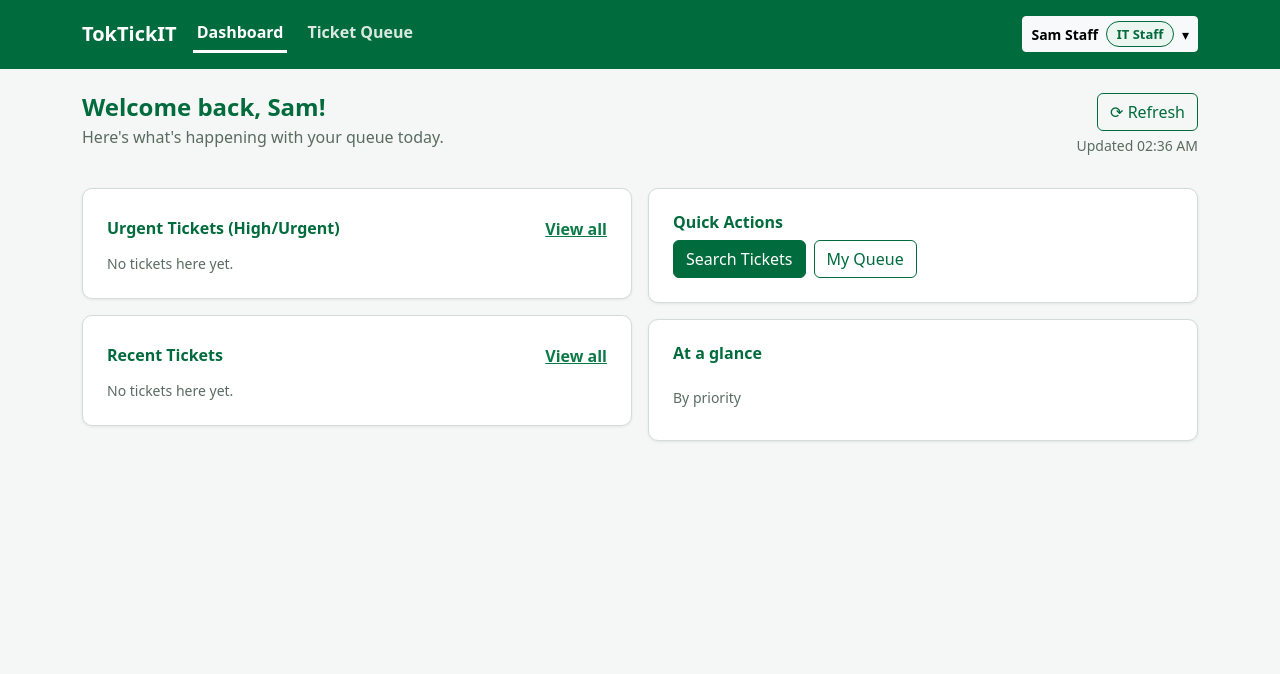
Test: Staff view — list, ordering, and status (AC-03) › shows Actions Taken by two different staff, each with the right Performed by
Click the button "Ticket Queue": (360, 34) [303,16,417,53]
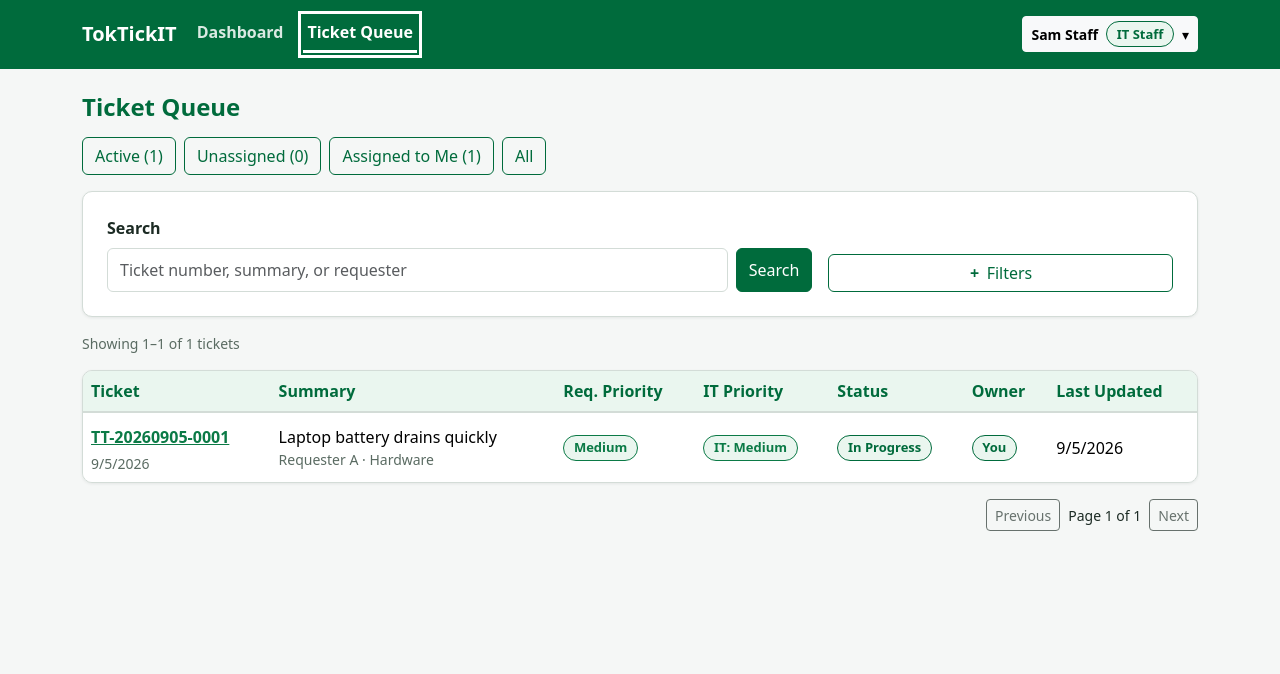
Click the button "TT-20260905-0001": (160, 437) [91,421,229,453]
(page scrolled)
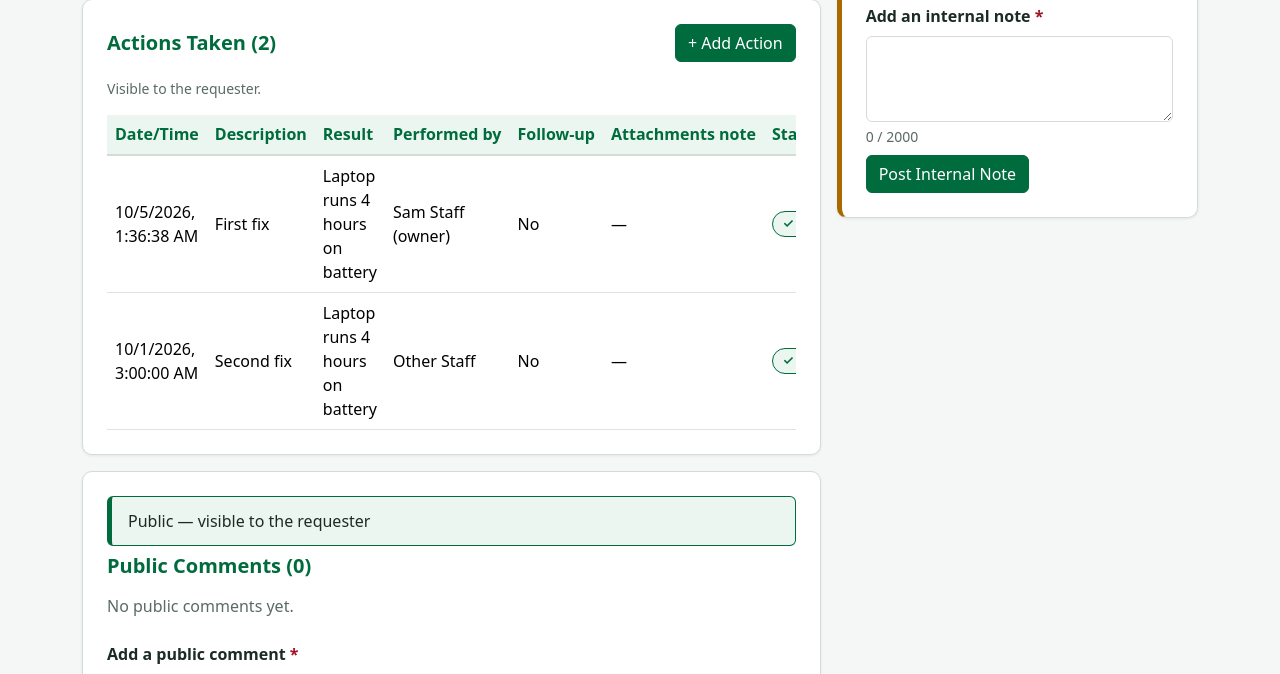
Result: the number of rows with test id "action-row" is 2 at [107,155,796,292]; [107,292,796,429]
Result: the text "Sam Staff (owner)" is shown at [385,155,510,292]
Result: the text "Other Staff" is shown at [385,292,510,429]
